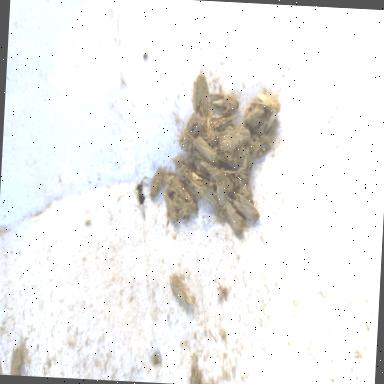pbw: (184, 132, 218, 162), (218, 124, 250, 152), (164, 174, 193, 204), (168, 276, 194, 308), (232, 194, 260, 222), (223, 200, 244, 235), (207, 92, 239, 112), (208, 168, 234, 192), (193, 74, 209, 110), (162, 192, 180, 224), (178, 164, 204, 186), (256, 92, 282, 114), (172, 192, 198, 214), (10, 345, 25, 375), (212, 112, 237, 130), (150, 169, 164, 198), (236, 148, 249, 178), (215, 180, 227, 206)
